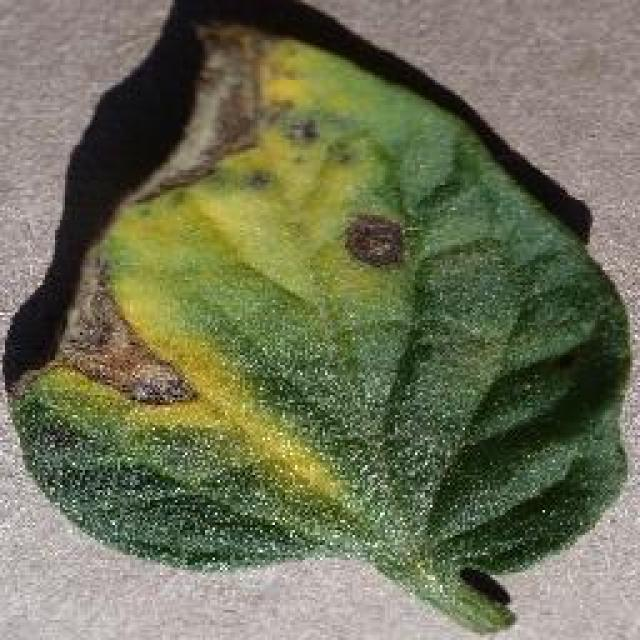Tomato Early blight leaf: (31, 25, 624, 607)
